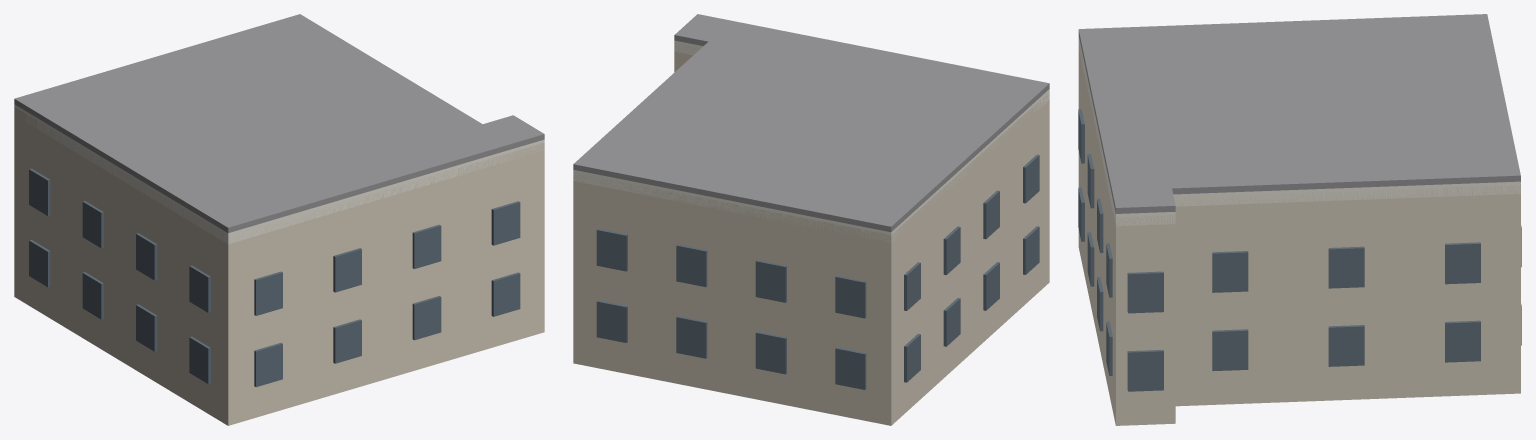
Rendered from s09_gis_247981_820805.glb.
The picture shows the model from 3 angles, left to right: view 1: azimuth 30°, elevation 25°; view 2: azimuth 150°, elevation 25°; view 3: azimuth 270°, elevation 25°; orthographic projection. The views are drawn at different scales.
Parts seen in each view (by area): view 1: mass, roofcap, cornice, win_1_0_3, win_1_1_3, win_1_1_2, win_1_0_2, win_1_1_1, win_1_0_0, win_1_0_1, win_1_1_0, win_0_0_0 (+7 smaller); view 2: mass, roofcap, cornice, win_5_0_0, win_5_0_3, win_5_1_1, win_5_1_0, win_5_0_1, win_5_1_3, win_5_0_2, win_5_1_2, win_0_1_1 (+7 smaller); view 3: mass, roofcap, cornice, win_2_1_0, win_4_1_1, win_4_0_0, win_4_0_1, win_4_1_0, win_2_0_0, win_4_0_2, win_4_1_2.
Boxes of the visible parts, box(x1,y1,x2,y2) form: mass: box(14, 107, 544, 425); roofcap: box(14, 14, 544, 233); cornice: box(14, 104, 544, 244); win_1_0_3: box(491, 272, 520, 316); win_1_1_3: box(491, 201, 520, 245); win_1_1_2: box(412, 224, 441, 268); win_1_0_2: box(412, 296, 441, 340); win_1_1_1: box(333, 248, 361, 292); win_1_0_0: box(254, 343, 282, 387); win_1_0_1: box(333, 319, 361, 363); win_1_1_0: box(254, 271, 282, 315); win_0_0_0: box(29, 239, 50, 287); mass: box(573, 46, 1049, 425); roofcap: box(573, 14, 1049, 232); cornice: box(573, 40, 1049, 242); win_5_0_0: box(596, 300, 627, 342); win_5_0_3: box(835, 347, 866, 389); win_5_1_1: box(676, 244, 707, 286); win_5_1_0: box(596, 229, 627, 271); win_5_0_1: box(676, 316, 707, 358); win_5_1_3: box(835, 275, 866, 318); win_5_0_2: box(755, 331, 786, 374); win_5_1_2: box(755, 260, 786, 302); win_0_1_1: box(943, 226, 960, 275); mass: box(1078, 42, 1520, 425); roofcap: box(1078, 14, 1520, 213); cornice: box(1078, 36, 1520, 226); win_2_1_0: box(1127, 271, 1163, 313); win_4_1_1: box(1328, 246, 1364, 288); win_4_0_0: box(1212, 329, 1248, 371); win_4_0_1: box(1328, 325, 1364, 366); win_4_1_0: box(1212, 251, 1248, 292); win_2_0_0: box(1127, 350, 1163, 391); win_4_0_2: box(1445, 320, 1480, 362); win_4_1_2: box(1445, 242, 1480, 284).
Bounding box in the file's own units: 16.04 × 8.35 × 15.4.
